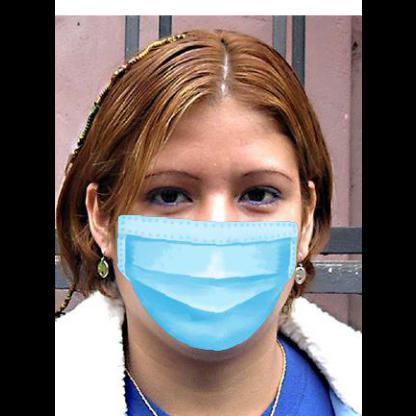Surgical Mask: (117, 100, 303, 342)
